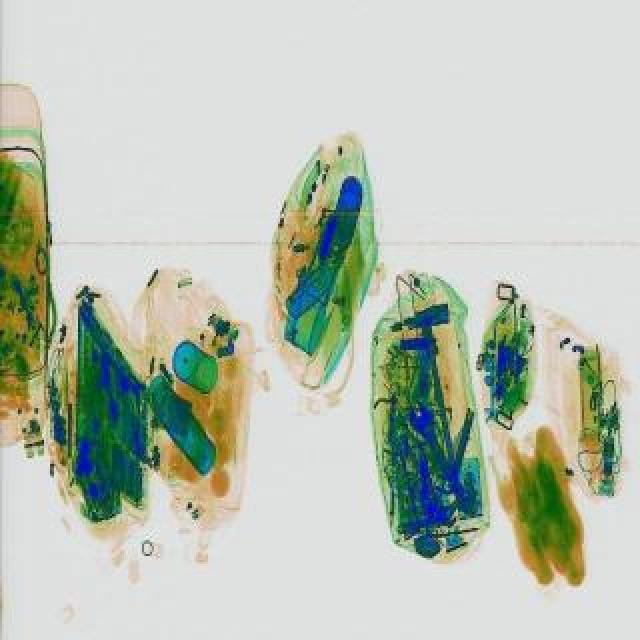scissors: (398, 396, 480, 512), (392, 500, 462, 542)
wrench: (360, 386, 412, 440), (380, 418, 432, 460)
